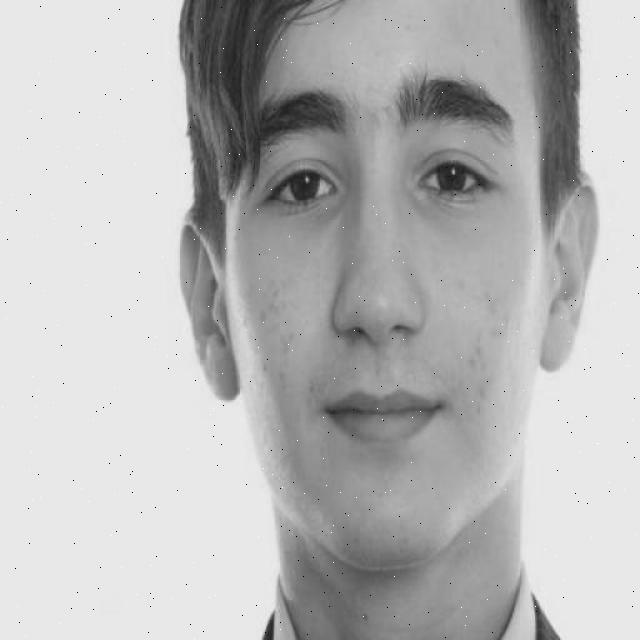Acne: (462, 272, 535, 433), (241, 270, 305, 392)
